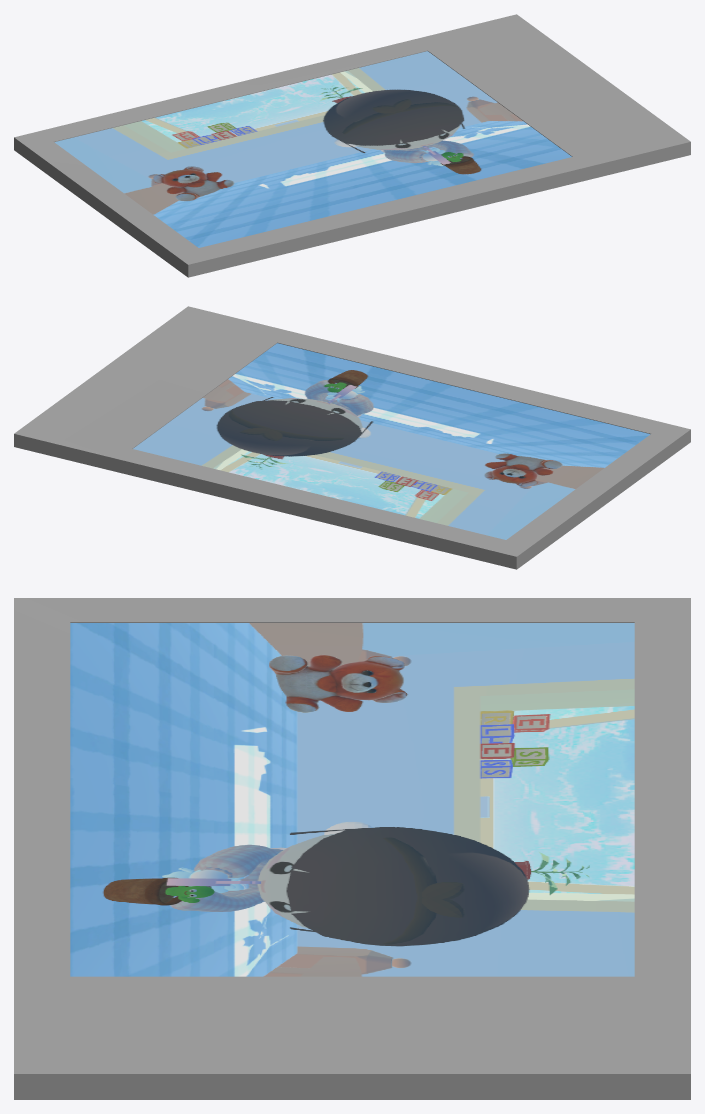
File: ending_photo8.fbx
3 renders of one model, top to bottom at view 1: azimuth 30°, elevation 25°; view 2: azimuth 150°, elevation 25°; view 3: azimuth 270°, elevation 25°, orthographic. The views are drawn at different scales.
Parts seen in each view (by area): view 1: pCube6; view 2: pCube6; view 3: pCube6.
Boxes of the visible parts, box(x1,y1,x2,y2) form: pCube6: box(14, 14, 690, 277); pCube6: box(14, 306, 690, 569); pCube6: box(14, 598, 690, 1099).
Size of the model in its own units: 10 by 0.2518 by 6.
Materials: 2 (1 with a texture image).
